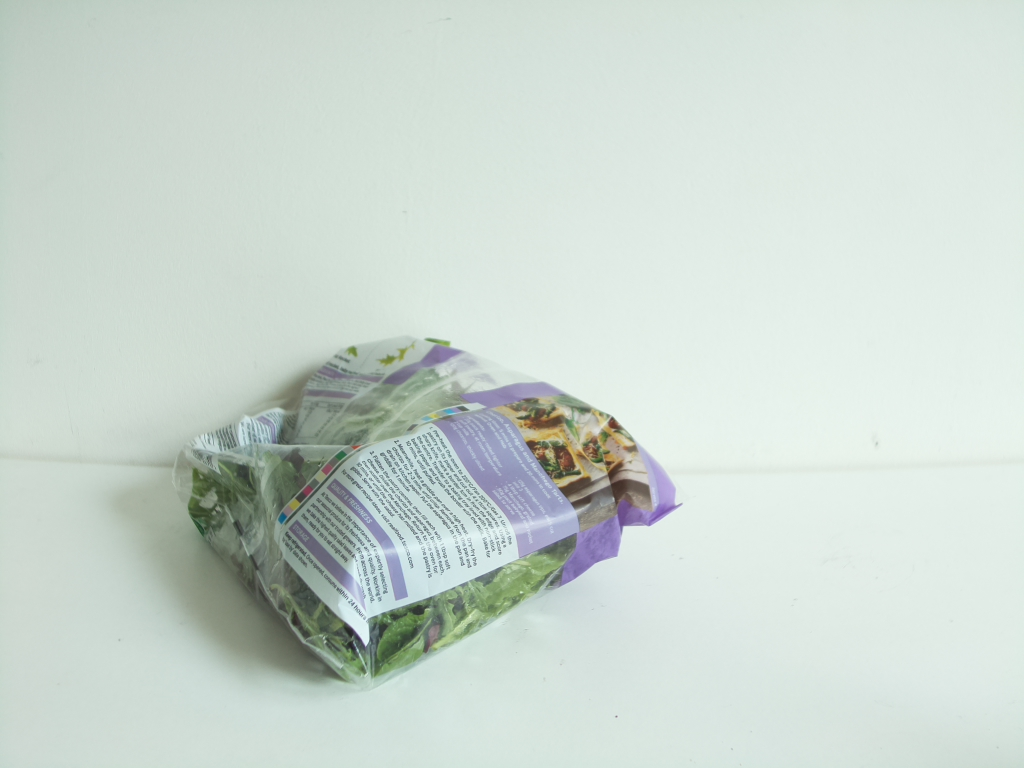salad: (189, 342, 673, 694)
